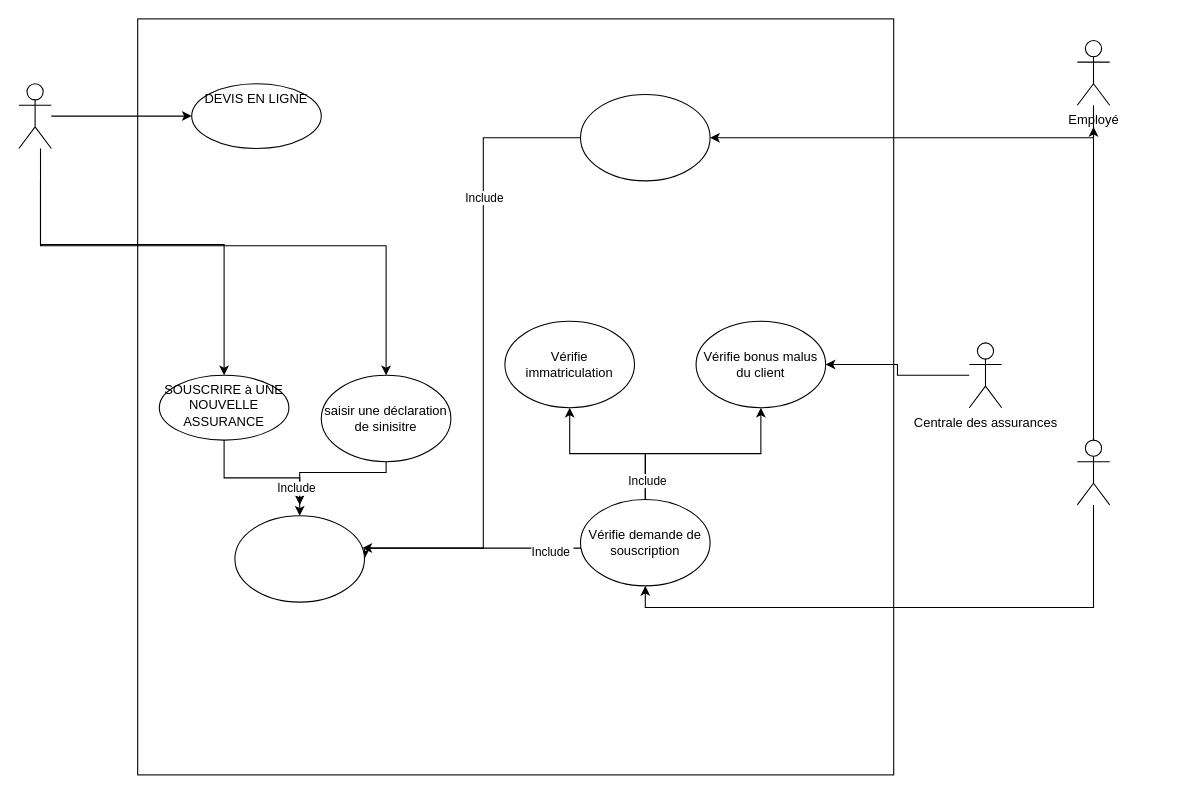
Image size: 1185x794. Some labels were removed from this diagram. The box of each missing label's shape, as (x1, y1, x2, y2) in pixels:
Client: (18, 83, 51, 148)
Employé service contrats: (1076, 439, 1110, 505)
s'identifié: (234, 515, 364, 602)
Visualiser les données: (579, 93, 710, 181)
